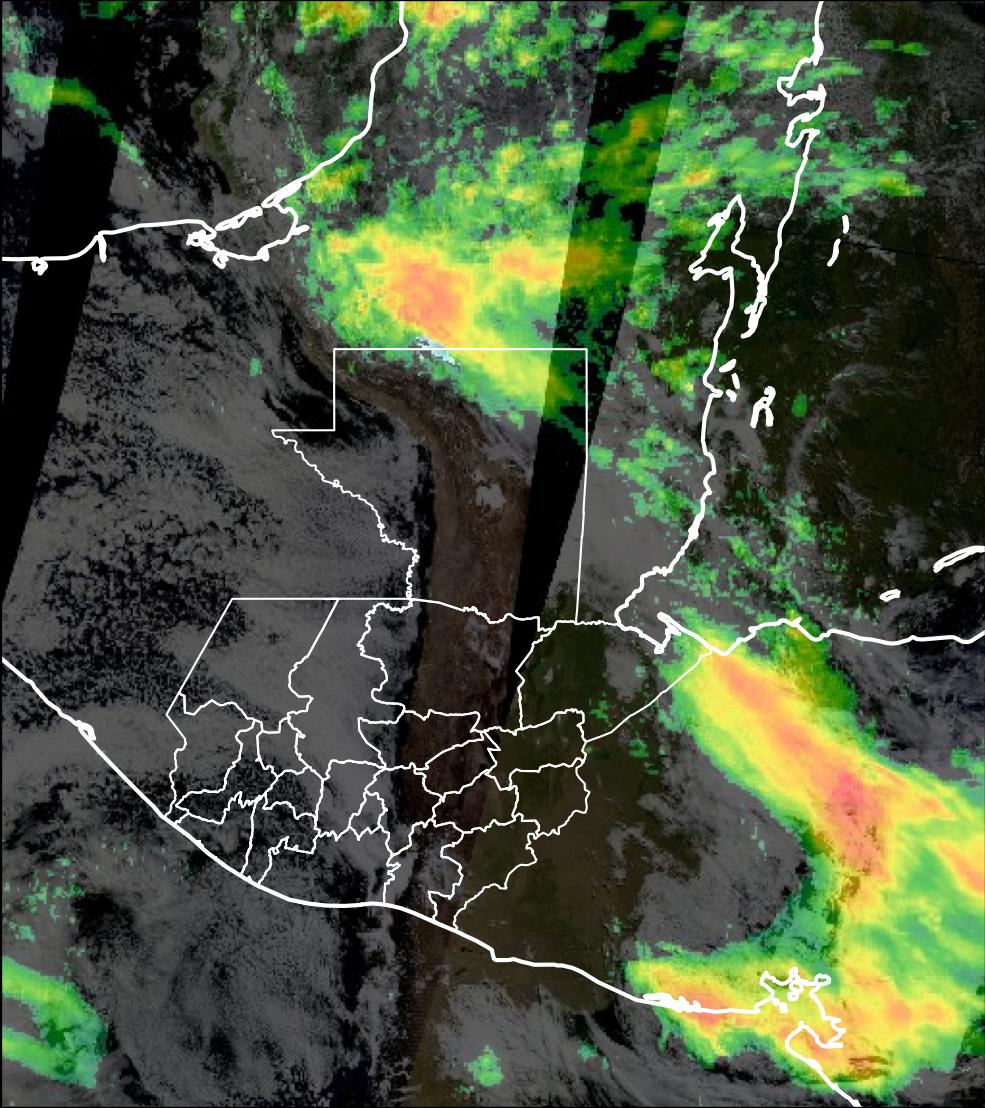precipitacion: (709, 656, 930, 890), (372, 239, 483, 346)
